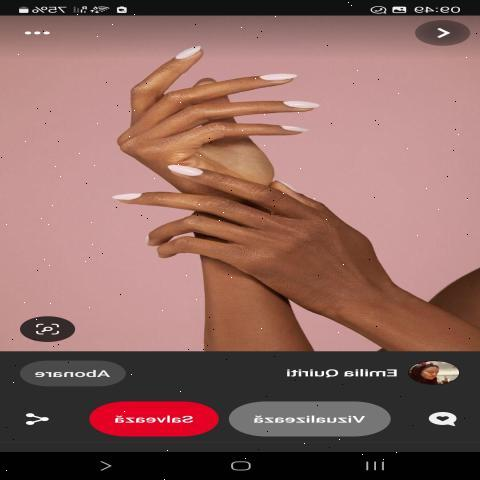Hands: (96, 162, 410, 310), (96, 19, 318, 159)
